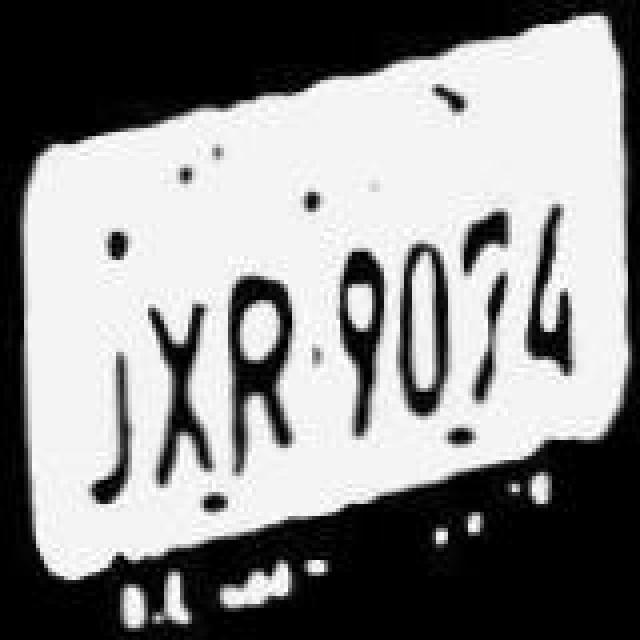4: (516, 184, 588, 416)
7: (450, 182, 526, 422)
9: (318, 250, 394, 478)
J: (64, 316, 140, 524)
O: (384, 218, 456, 442)
R: (214, 258, 306, 490)
X: (140, 282, 224, 506)
